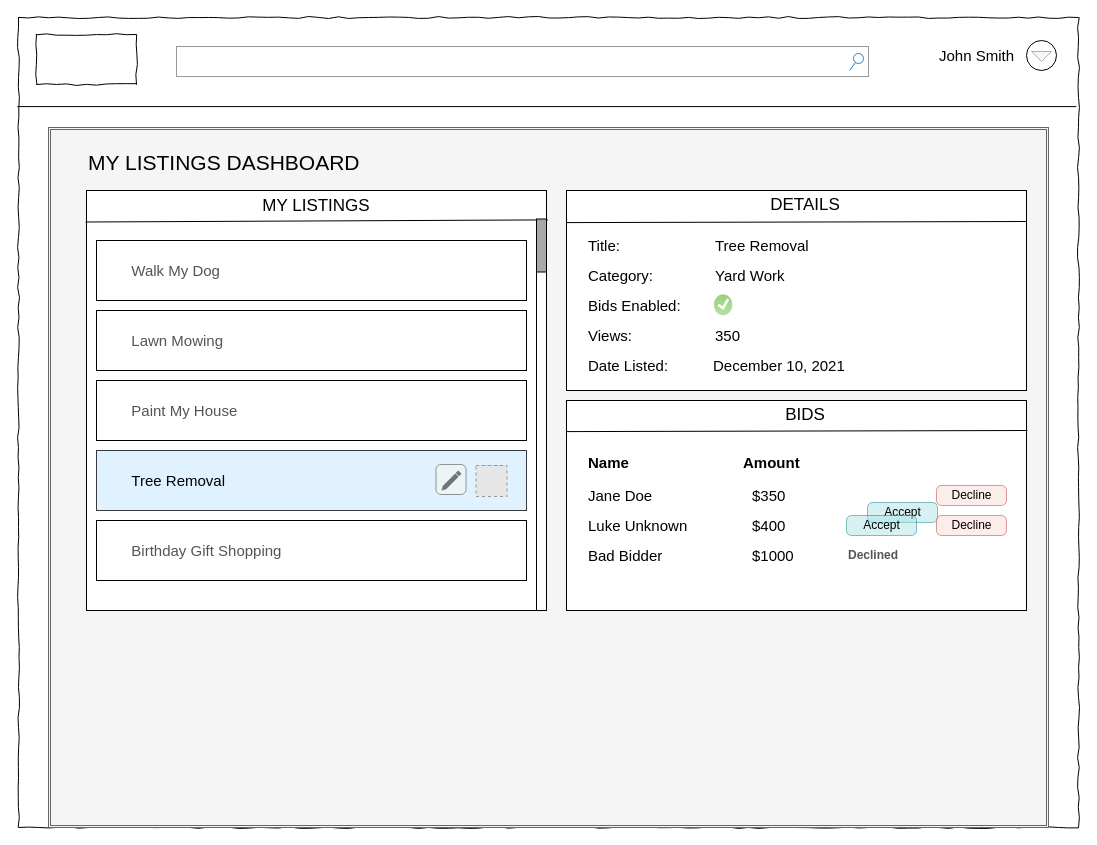
The diagram is 1097 pixels wide and 845 high, and some of its shapes have lost their labels. Grey dashed boxes stand in for pictures. Each missing label, with the centre of its shape:
LOGO: pixel 86 59
Search: pixel 522 61
